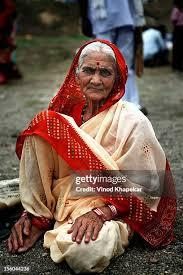Human: (19, 29, 162, 250)
